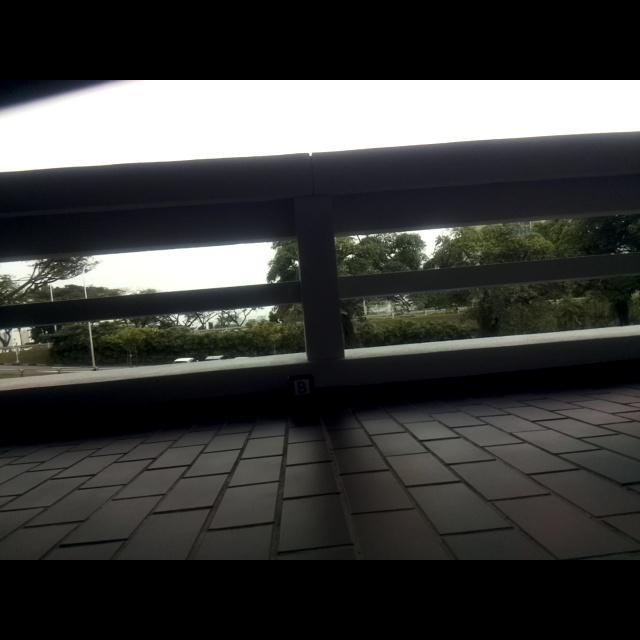B: (296, 381, 307, 395)
